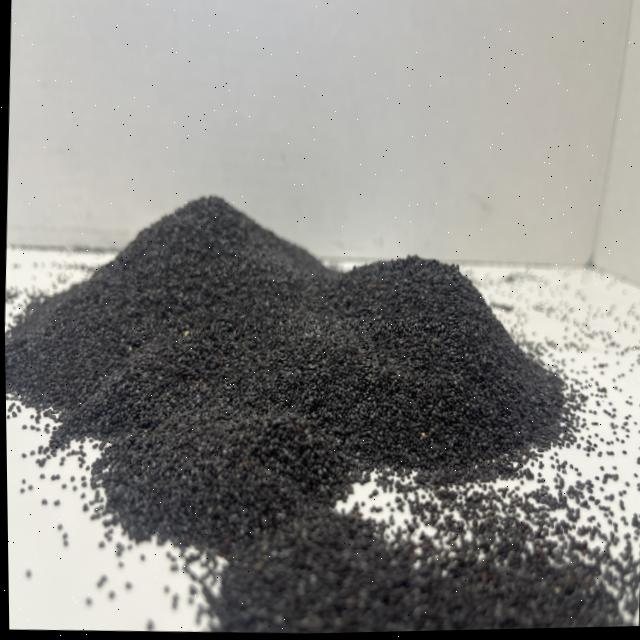Poppy Seeds: (2, 150, 607, 599)
